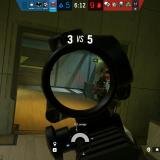Character: (92, 67, 122, 116)
Head: (105, 68, 111, 83)
